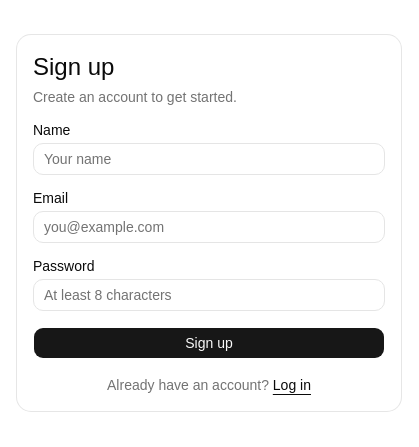
Scenario: SignupPage › shows a validation error when password is too short
In the field with test id "signup-name": (209, 159) [33,143,385,175], type "Test User"
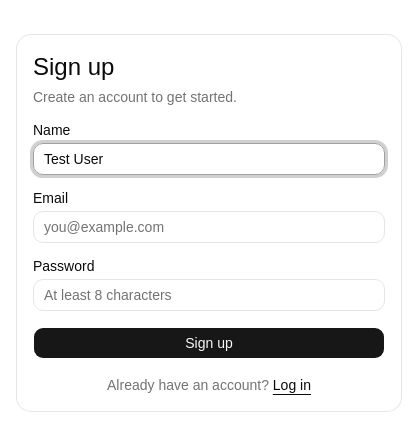
In the field with test id "signup-email": (209, 227) [33,211,385,243], type "test@example.com"
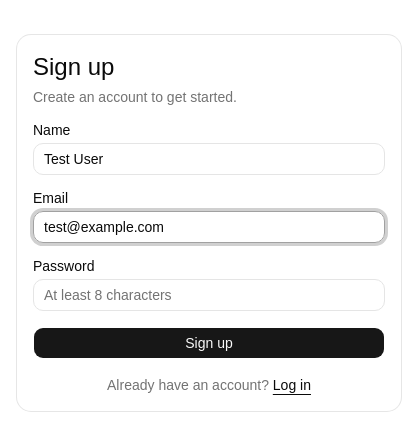
In the password field with test id "signup-password": (209, 295) [33,279,385,311], type "short"
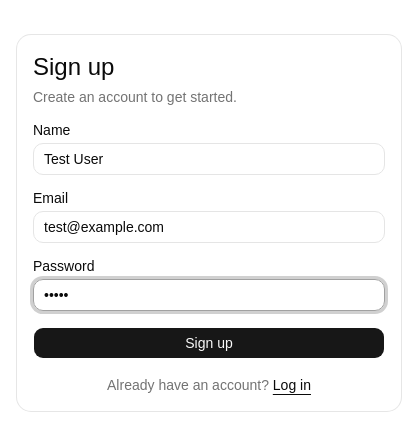
Click the button with test id "signup-submit": (209, 343) [33,327,385,359]
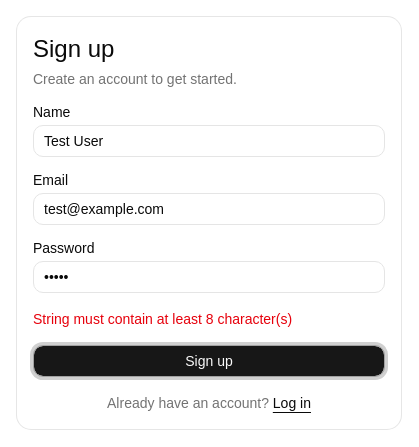
Expected: the text with test id "signup-error" reads "String must contain at least 8 character(s)", [33,311,292,327]
